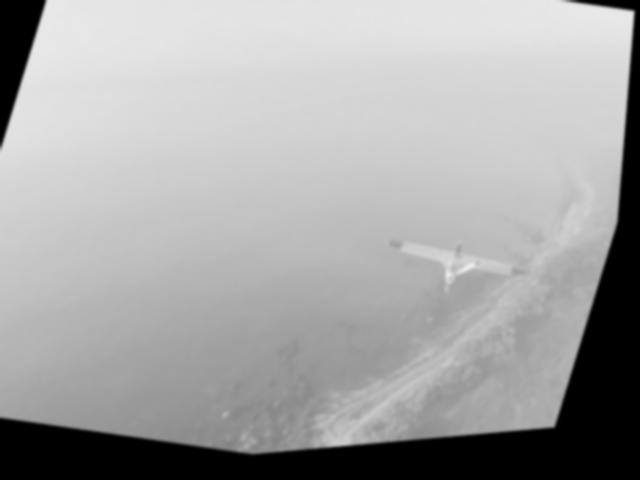hedef: (366, 215, 554, 339)
